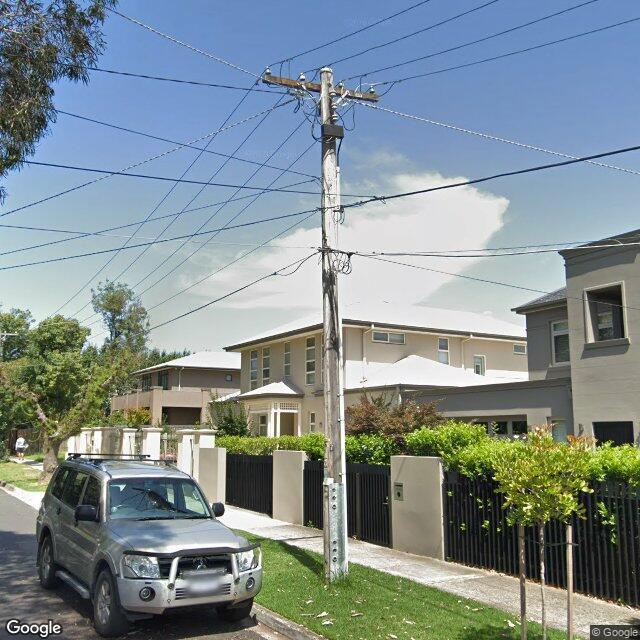crossarm: (262, 75, 378, 102)
timber-pole: (320, 67, 349, 584)
